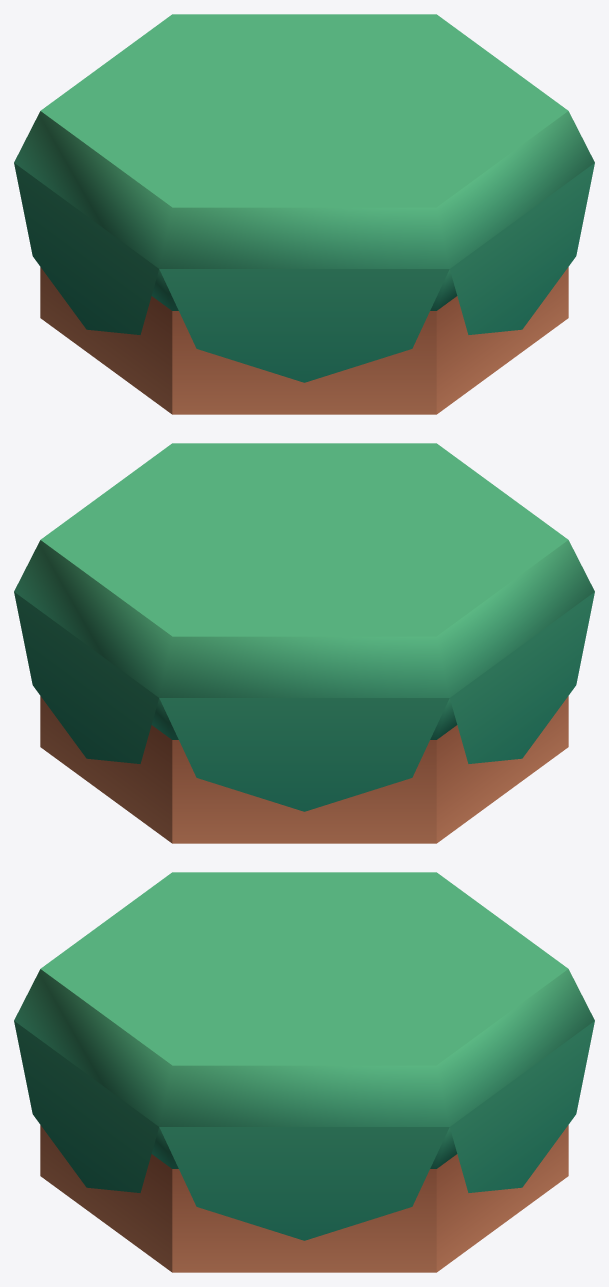
Rendered from block-grass-overhang-low-hexagon.glb.
3 views of the same model, one above another, from view 1: azimuth 30°, elevation 25°; view 2: azimuth 150°, elevation 25°; view 3: azimuth 270°, elevation 25° (orthographic).
Parts seen in each view (by area): view 1: block-grass-overhang-low-hexagon; view 2: block-grass-overhang-low-hexagon; view 3: block-grass-overhang-low-hexagon.
Boxes of the visible parts, box(x1,y1,x2,y2) form: block-grass-overhang-low-hexagon: box(14, 14, 594, 414); block-grass-overhang-low-hexagon: box(14, 443, 594, 843); block-grass-overhang-low-hexagon: box(14, 872, 594, 1272).
Bounding box in the file's own units: 1.1 × 0.5 × 1.27.
Materials: 1 (1 with a texture image).
